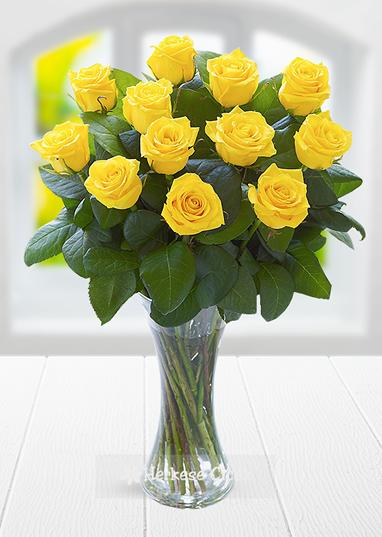Rose: (160, 170, 229, 242), (206, 101, 280, 165), (256, 165, 316, 241), (29, 110, 94, 179), (87, 152, 146, 222), (202, 44, 268, 105), (60, 54, 123, 117), (290, 108, 358, 165), (140, 117, 199, 182), (280, 46, 332, 113), (148, 30, 205, 86), (125, 81, 178, 129)
